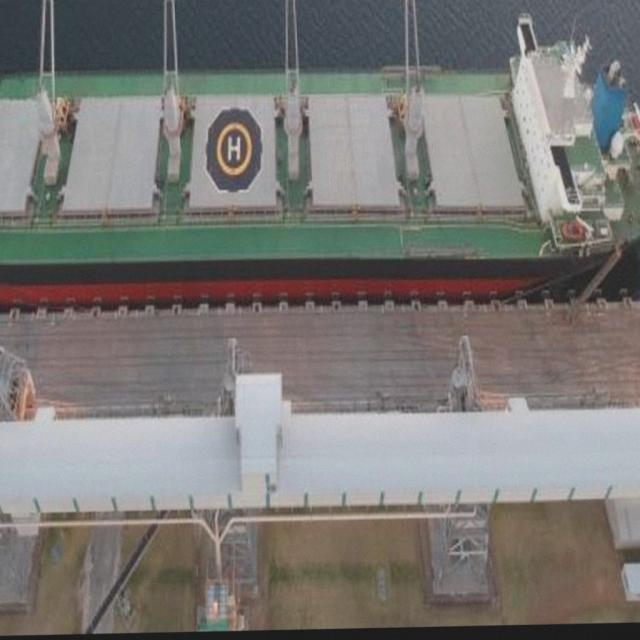helipad: (212, 119, 253, 177)
